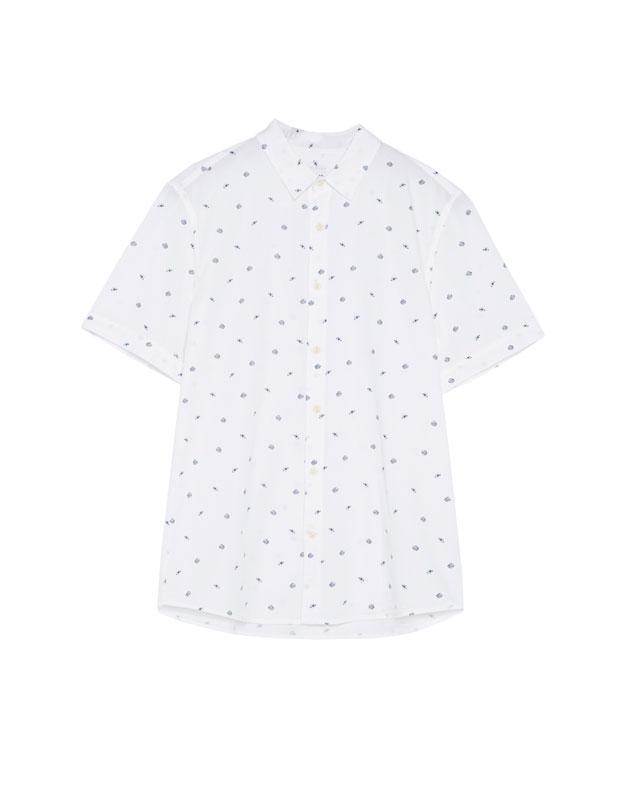teeshirt: (78, 117, 546, 647)
